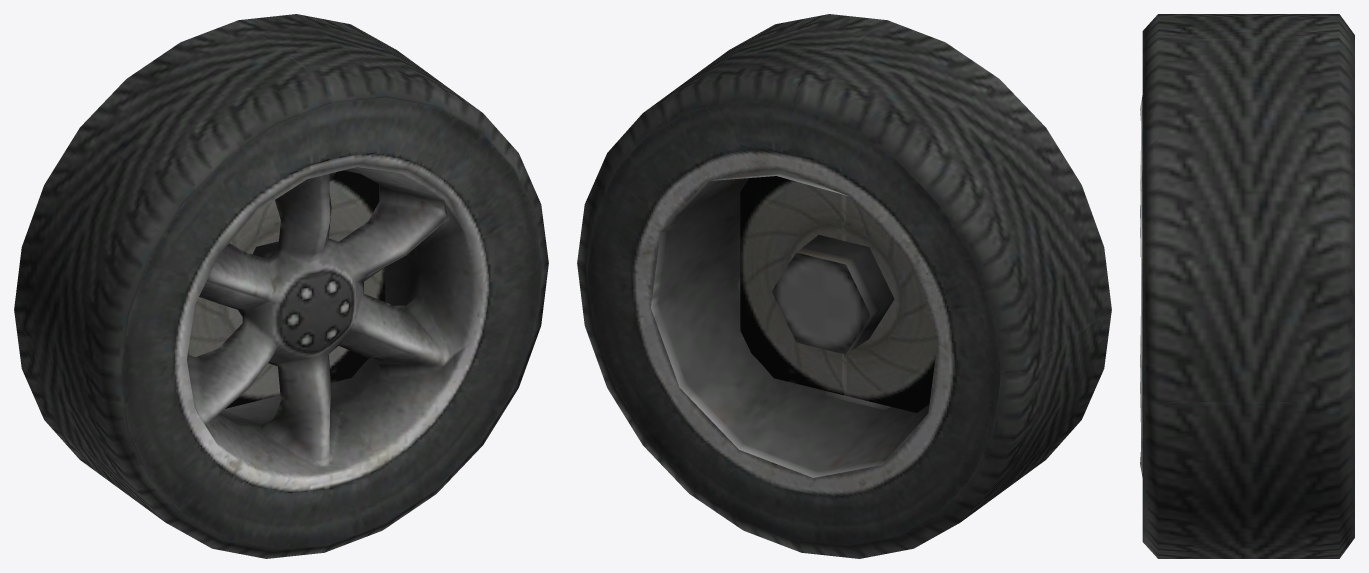
The model's file is V_A_ClassicMuscle_Wheels_4_SkeletalMesh3_SkeletalMesh_15.psk.glb.
3 renders of one model, left to right at view 1: azimuth 30°, elevation 25°; view 2: azimuth 150°, elevation 25°; view 3: azimuth 270°, elevation 25°, orthographic. The views are drawn at different scales.
Size of the model in its own units: 67.92 by 67.92 by 26.68.
Materials: 1 (1 with a texture image).
